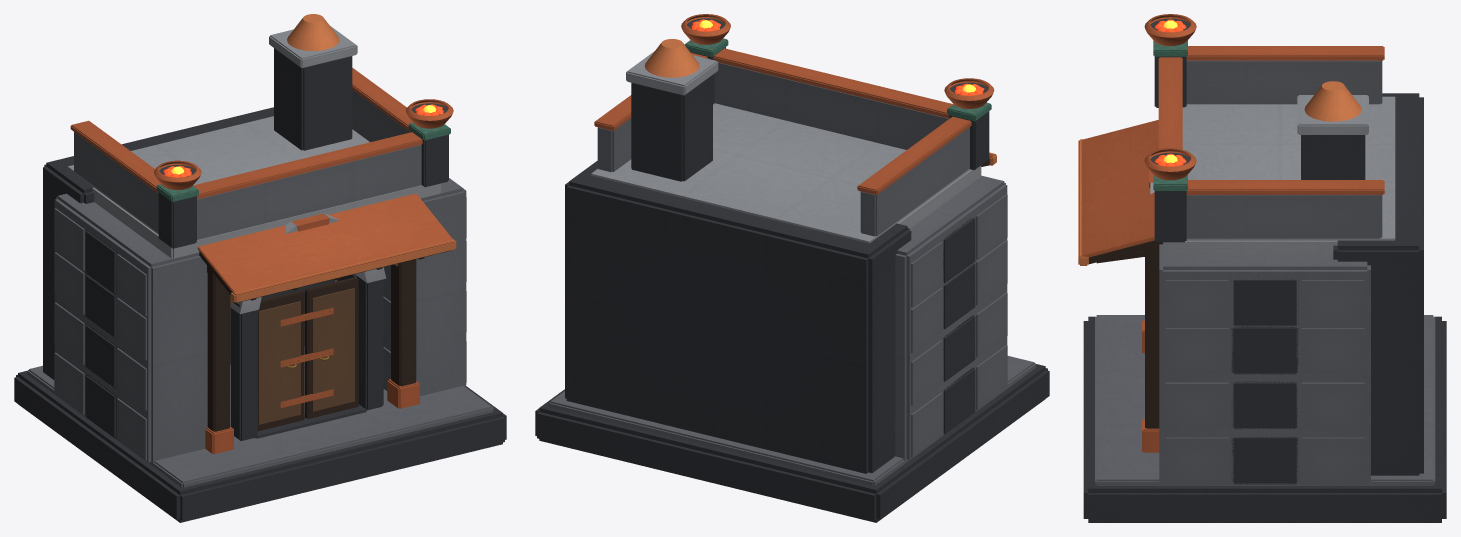
The model's file is cavern_terrace_shelter.glb.
3 views of the same model, side by side, from view 1: azimuth 30°, elevation 25°; view 2: azimuth 150°, elevation 25°; view 3: azimuth 270°, elevation 25° (orthographic). The views are drawn at different scales.
Visible parts, largest first — view 1: cavern_terrace_shelter; view 2: cavern_terrace_shelter; view 3: cavern_terrace_shelter.
Boxes of the visible parts, bbox=[...] form: cavern_terrace_shelter: bbox=[14, 14, 506, 522]; cavern_terrace_shelter: bbox=[535, 14, 1049, 522]; cavern_terrace_shelter: bbox=[1078, 14, 1446, 522].
Size of the model in its own units: 5.5 by 5.78 by 4.87.
Materials: 1 (1 with a texture image).
